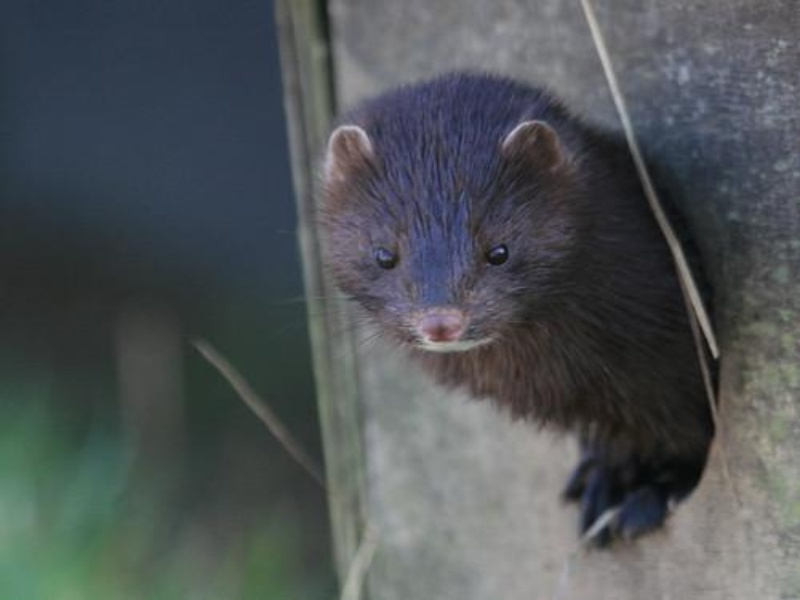minkish: (314, 69, 721, 528)
